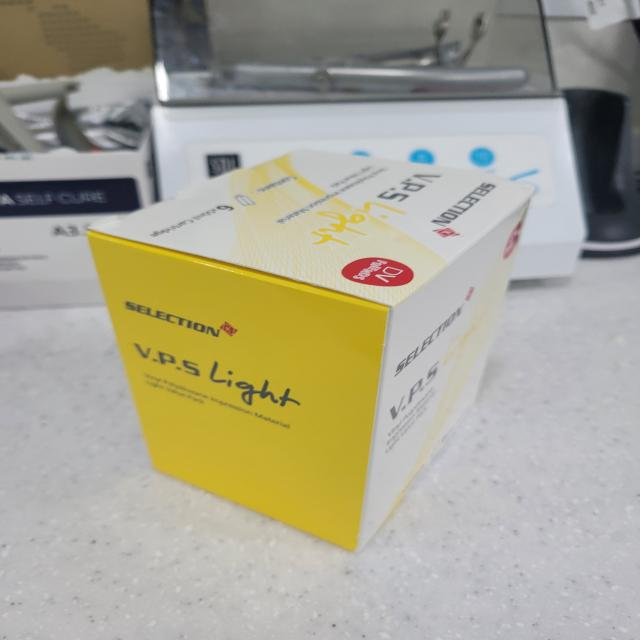impression: (58, 129, 543, 574)
